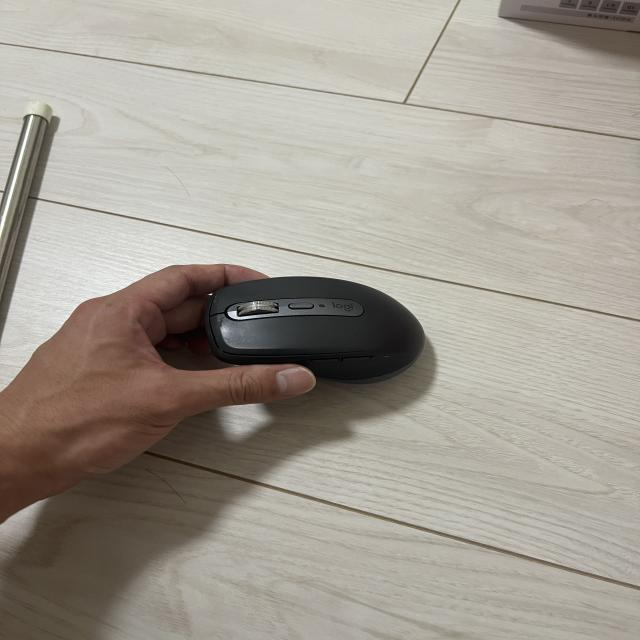mouse: (208, 281, 436, 377)
